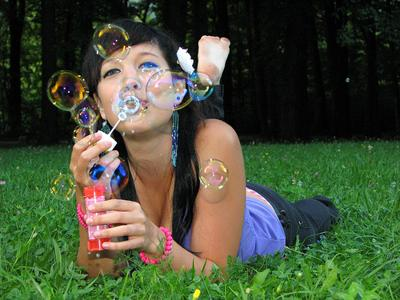person: (67, 27, 345, 282)
